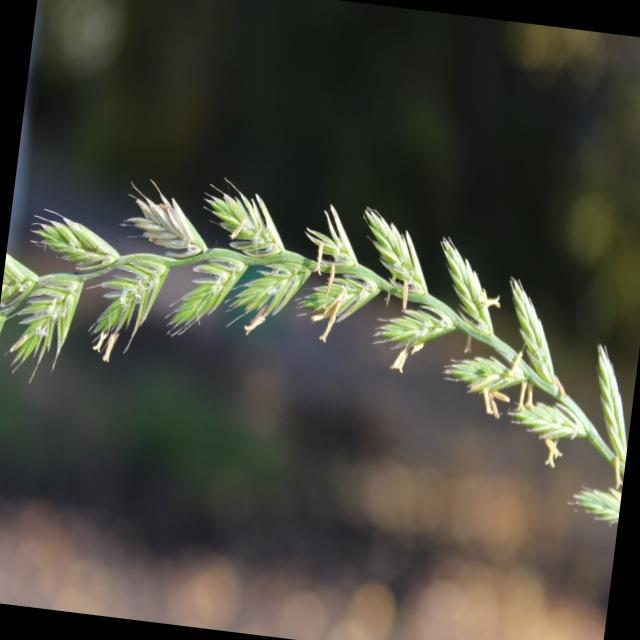Lolium: (0, 151, 640, 532)
